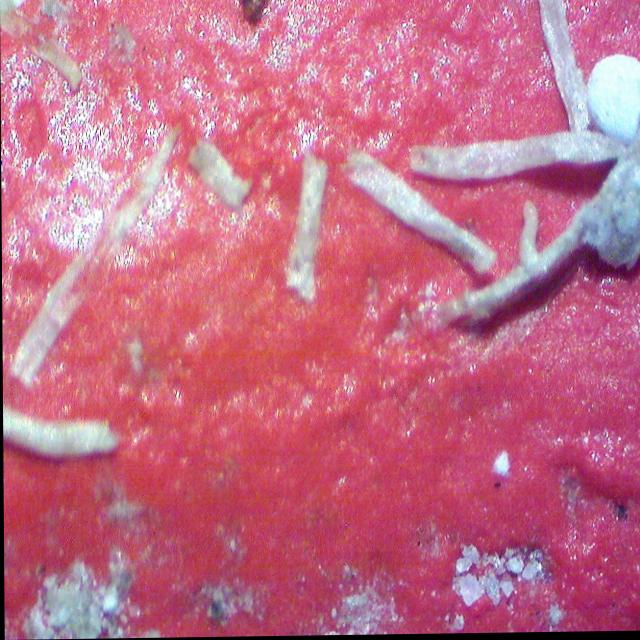microplastic: (0, 0, 640, 637)
